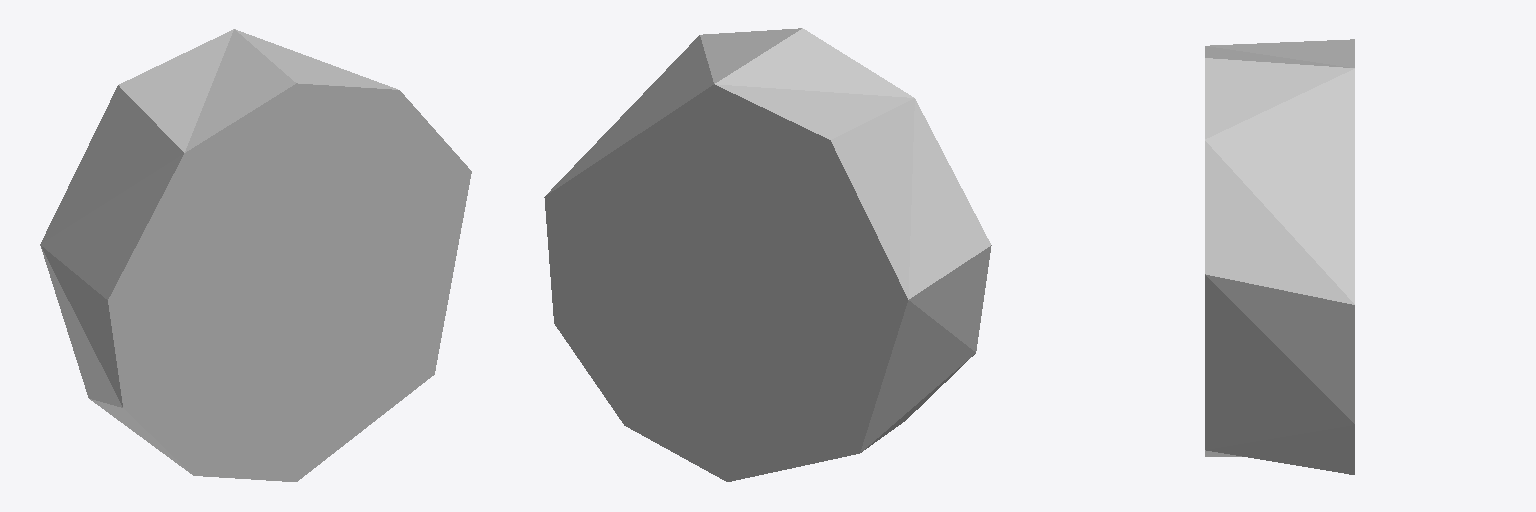
File: tape_simple_cvx.obj
3 renders of one model, left to right at view 1: azimuth 30°, elevation 25°; view 2: azimuth 150°, elevation 25°; view 3: azimuth 270°, elevation 25°, orthographic.
Bounding box in the file's own units: 0.2412 × 0.2475 × 0.0848.